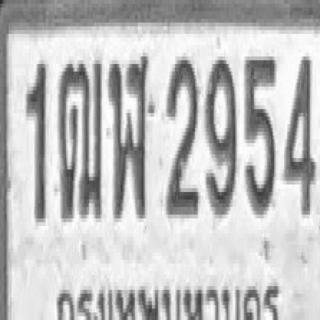A18: (58, 56, 102, 218)
A42: (108, 53, 149, 218)
N01: (26, 60, 46, 222)
N02: (165, 55, 198, 216)
N04: (284, 53, 315, 215)
N05: (245, 53, 276, 215)
N09: (204, 56, 236, 215)
